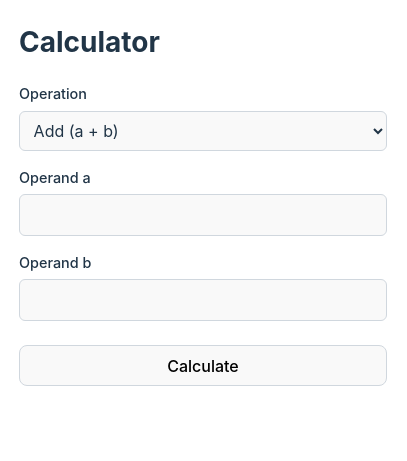
Scenario: Calculator › submitting › shows the network message when the backend is unreachable
Select "Add (a + b)" in the dropdown labelled "Operation" at (203, 131), box [19,111,387,151]
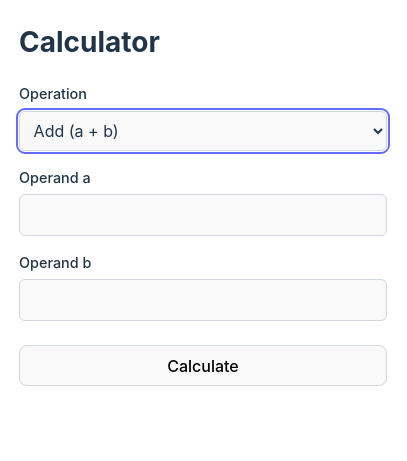
Type "2" into the field labelled "Operand a" at (203, 215), box [19,194,387,236]
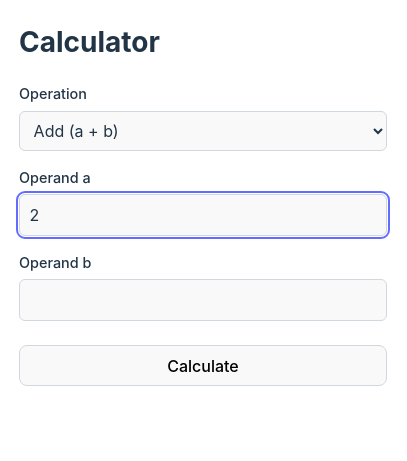
Type "3" into the field labelled "Operand b" at (203, 300), box [19,279,387,321]
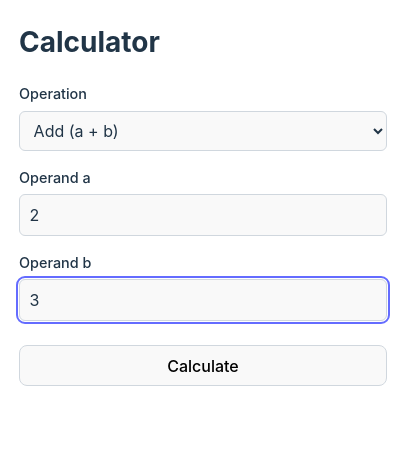
Click the button at (203, 366), box [19,345,387,386]
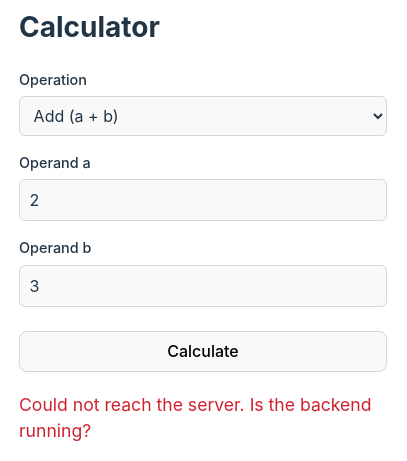
Result: the text "Could not reach the server. Is the backend running?" is shown at [19,392,387,445]
